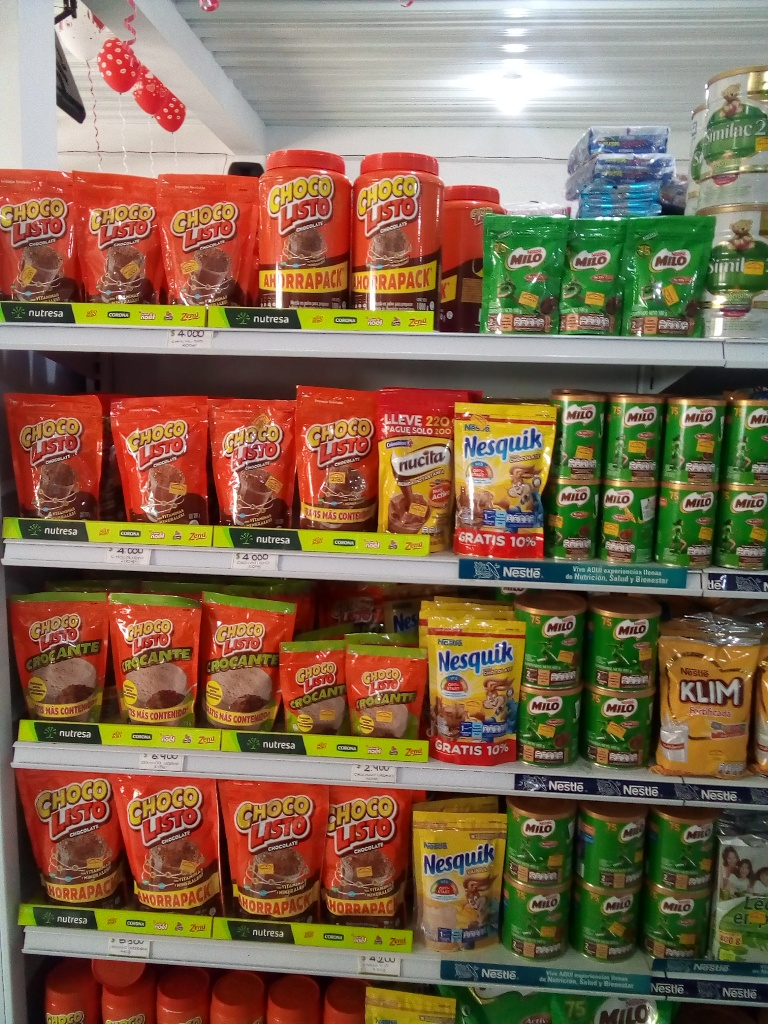COL0170102DYP10000: (279, 633, 345, 735)
COL0170103DYP20000: (0, 165, 80, 303)
COL0170103DYP44000: (17, 773, 122, 902)
COL0170103TRR00100: (437, 174, 509, 333)
COL0170203DYP10000: (483, 216, 561, 335)
COL0170203LAT20000: (550, 386, 603, 481)
COL0170203LAT40000: (503, 797, 571, 888)
COL0170306DYP20000: (407, 792, 502, 956)
